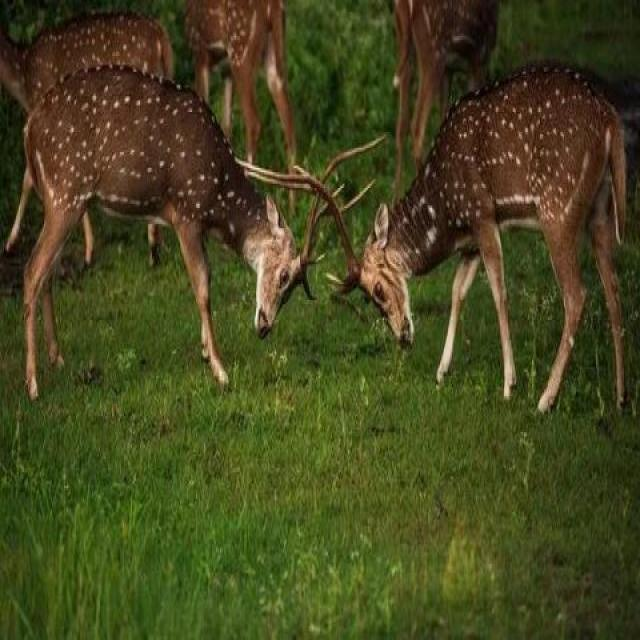deer: (0, 0, 336, 387), (330, 42, 640, 370)
